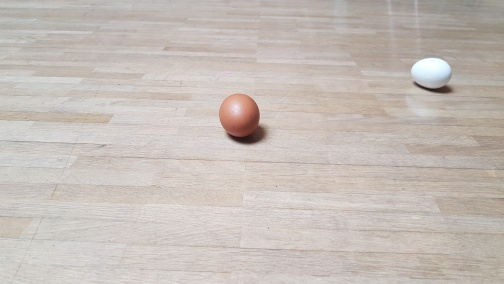egg: (218, 91, 261, 139), (409, 56, 453, 90)
